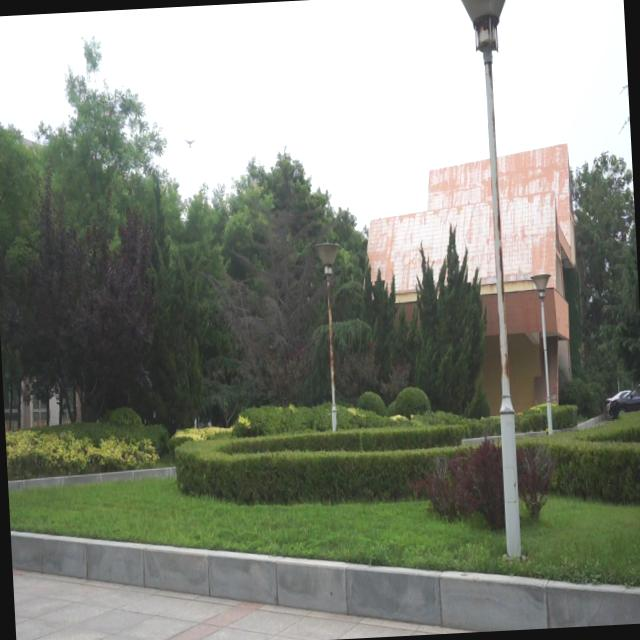drone: (182, 132, 198, 153)
